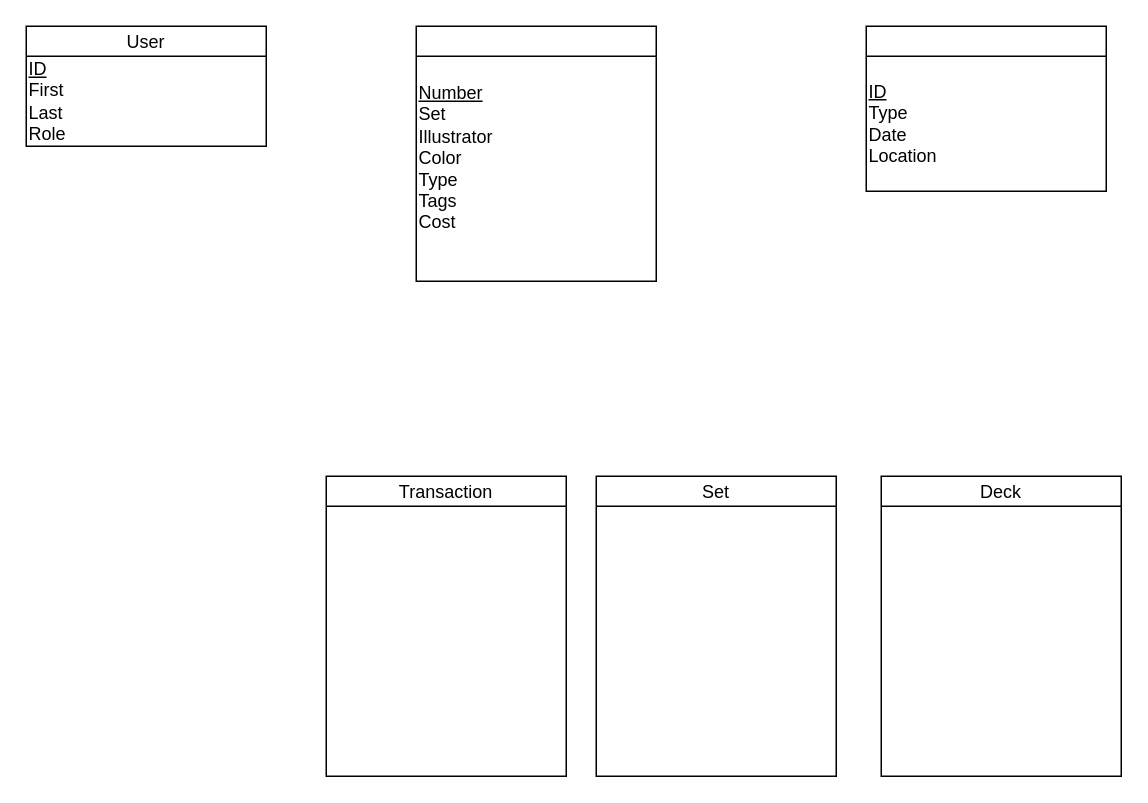
Some shapes in this 1148 by 803 pixel diagram are drawn without their labels. The shapes that lost their labels are listed below. From the top down, each one's box as (x1, y1, x2, y2) in pixels, then its label:
(865, 25, 1106, 191): Game
(415, 25, 656, 281): Card
